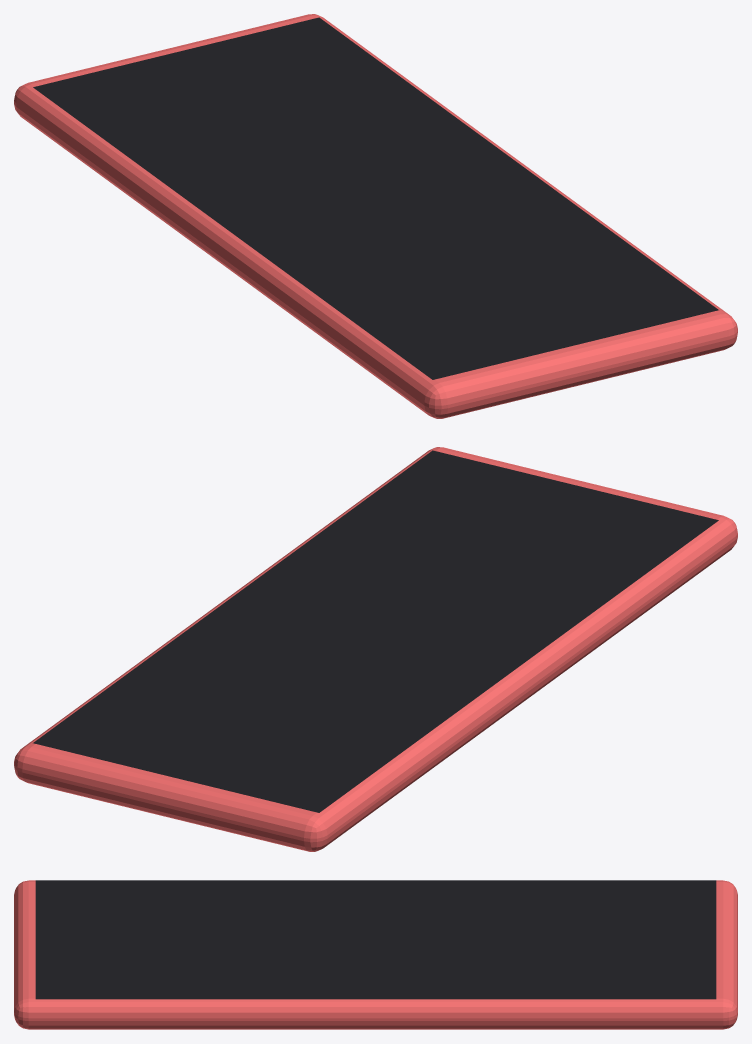
Rendered from xiaomi-model-96-flagship-2022.glb.
3 views of the same model, one above another, from view 1: azimuth 30°, elevation 25°; view 2: azimuth 150°, elevation 25°; view 3: azimuth 270°, elevation 25° (orthographic). The views are drawn at different scales.
Parts seen in each view (by area): view 1: Phone_Screen, Phone_Body; view 2: Phone_Screen, Phone_Body; view 3: Phone_Screen, Phone_Body.
Boxes of the visible parts, x1=… form: Phone_Screen: x1=33, y1=17, x2=718, y2=379; Phone_Body: x1=14, y1=14, x2=737, y2=418; Phone_Screen: x1=33, y1=450, x2=718, y2=812; Phone_Body: x1=14, y1=447, x2=737, y2=851; Phone_Screen: x1=35, y1=880, x2=716, y2=999; Phone_Body: x1=14, y1=880, x2=737, y2=1029.
Bounding box in the file's own units: 0.0706 × 0.0076 × 0.1671.
